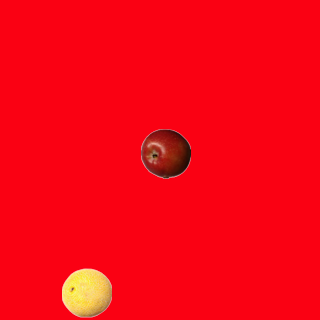Apple Braeburn: (140, 128, 190, 178)
Cantaloupe 1: (61, 267, 111, 317)
